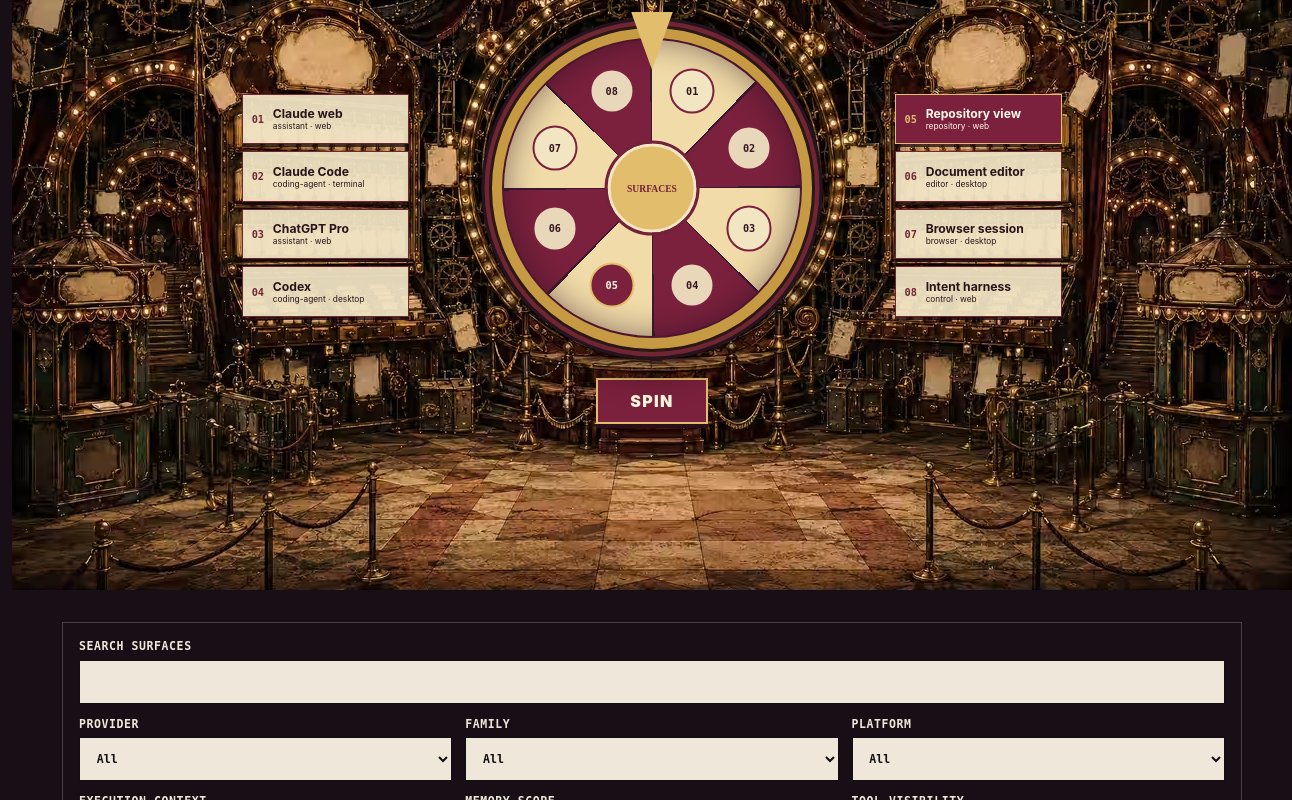
shared surface directory › cancels a pending spin when a filter changes but its sampled winner remains visible
(page scrolled)
Click the button "Spin". click: {"x": 652, "y": 401}
box: [596, 378, 708, 424]
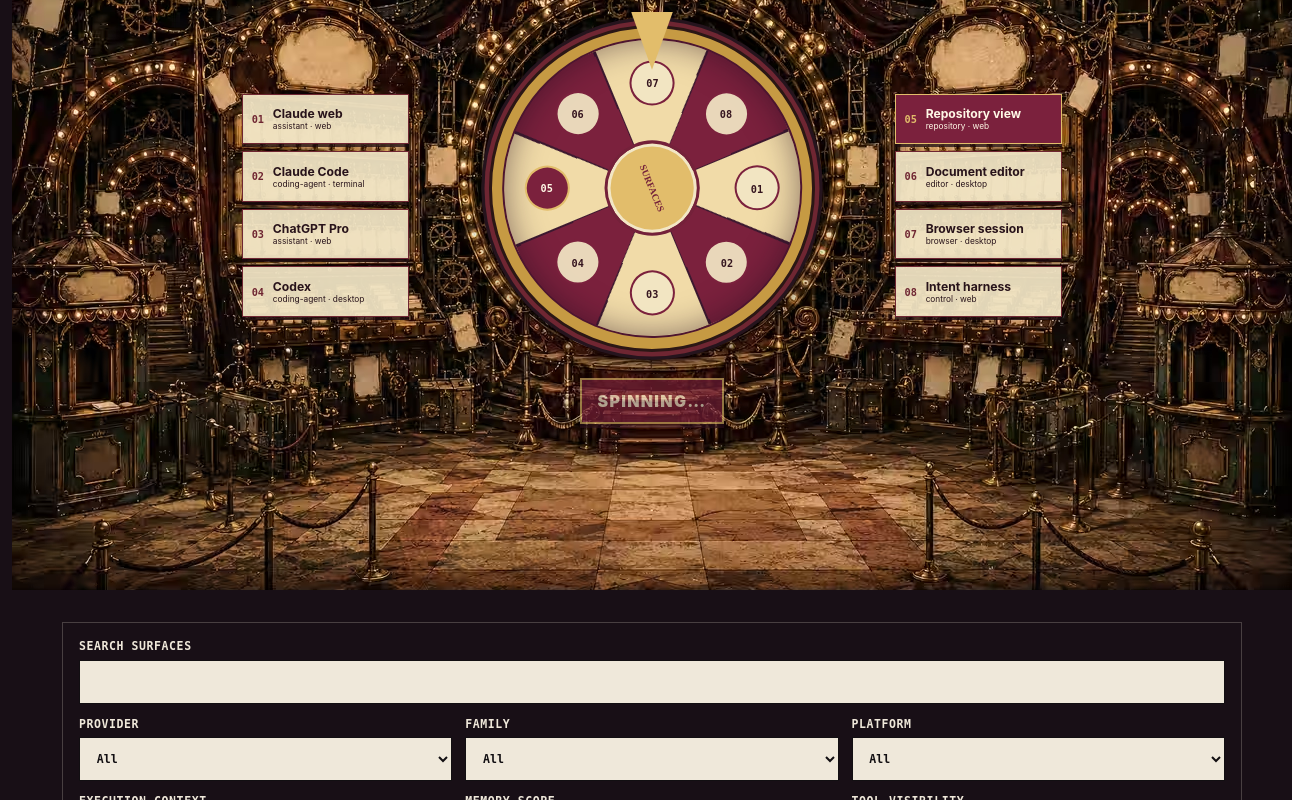
Select "unknown" in the dropdown labelled "Provider". click: {"x": 266, "y": 759}
box: [79, 737, 452, 781]
Wait 1200 ms
(page scrolled)
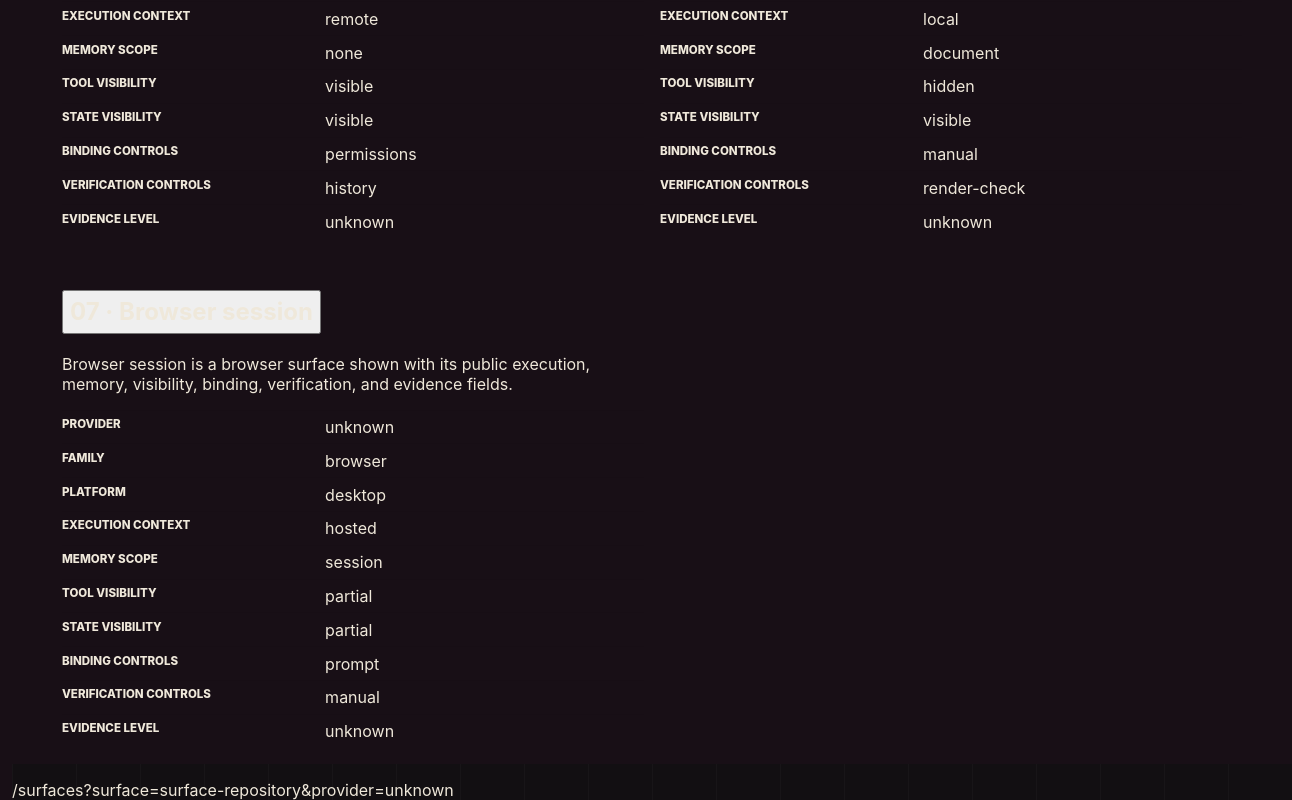
Expected: the text with test id "location" shows "surface=surface-repository", [84, 780, 454, 799]
Now the text with test id "location" shows "provider=unknown", box [84, 780, 454, 799]
